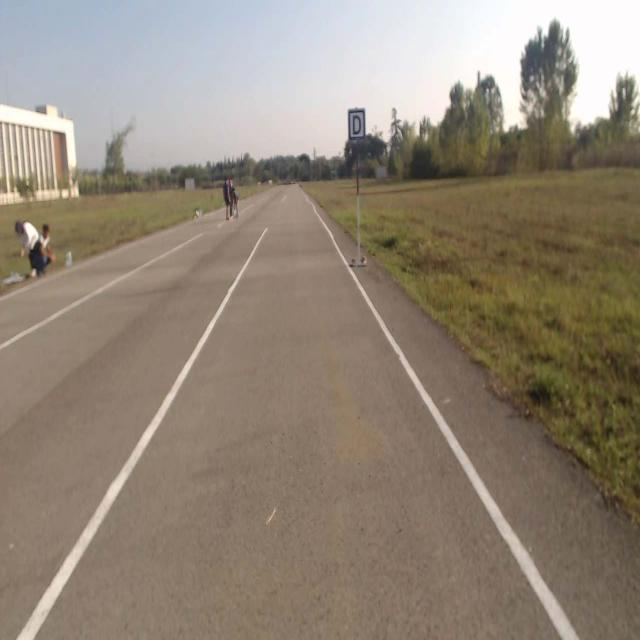durak: (348, 108, 365, 140)
